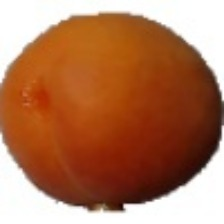apricot: (11, 15, 198, 165)
